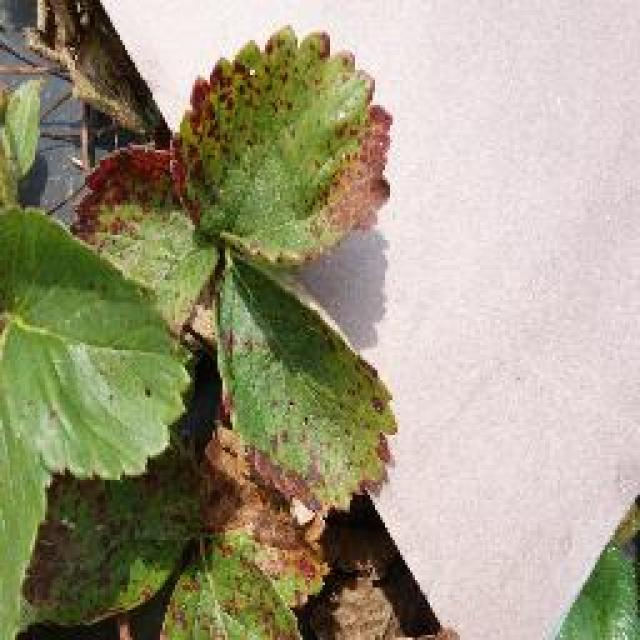Strawberry___Leaf_scorch: (3, 0, 635, 640)
